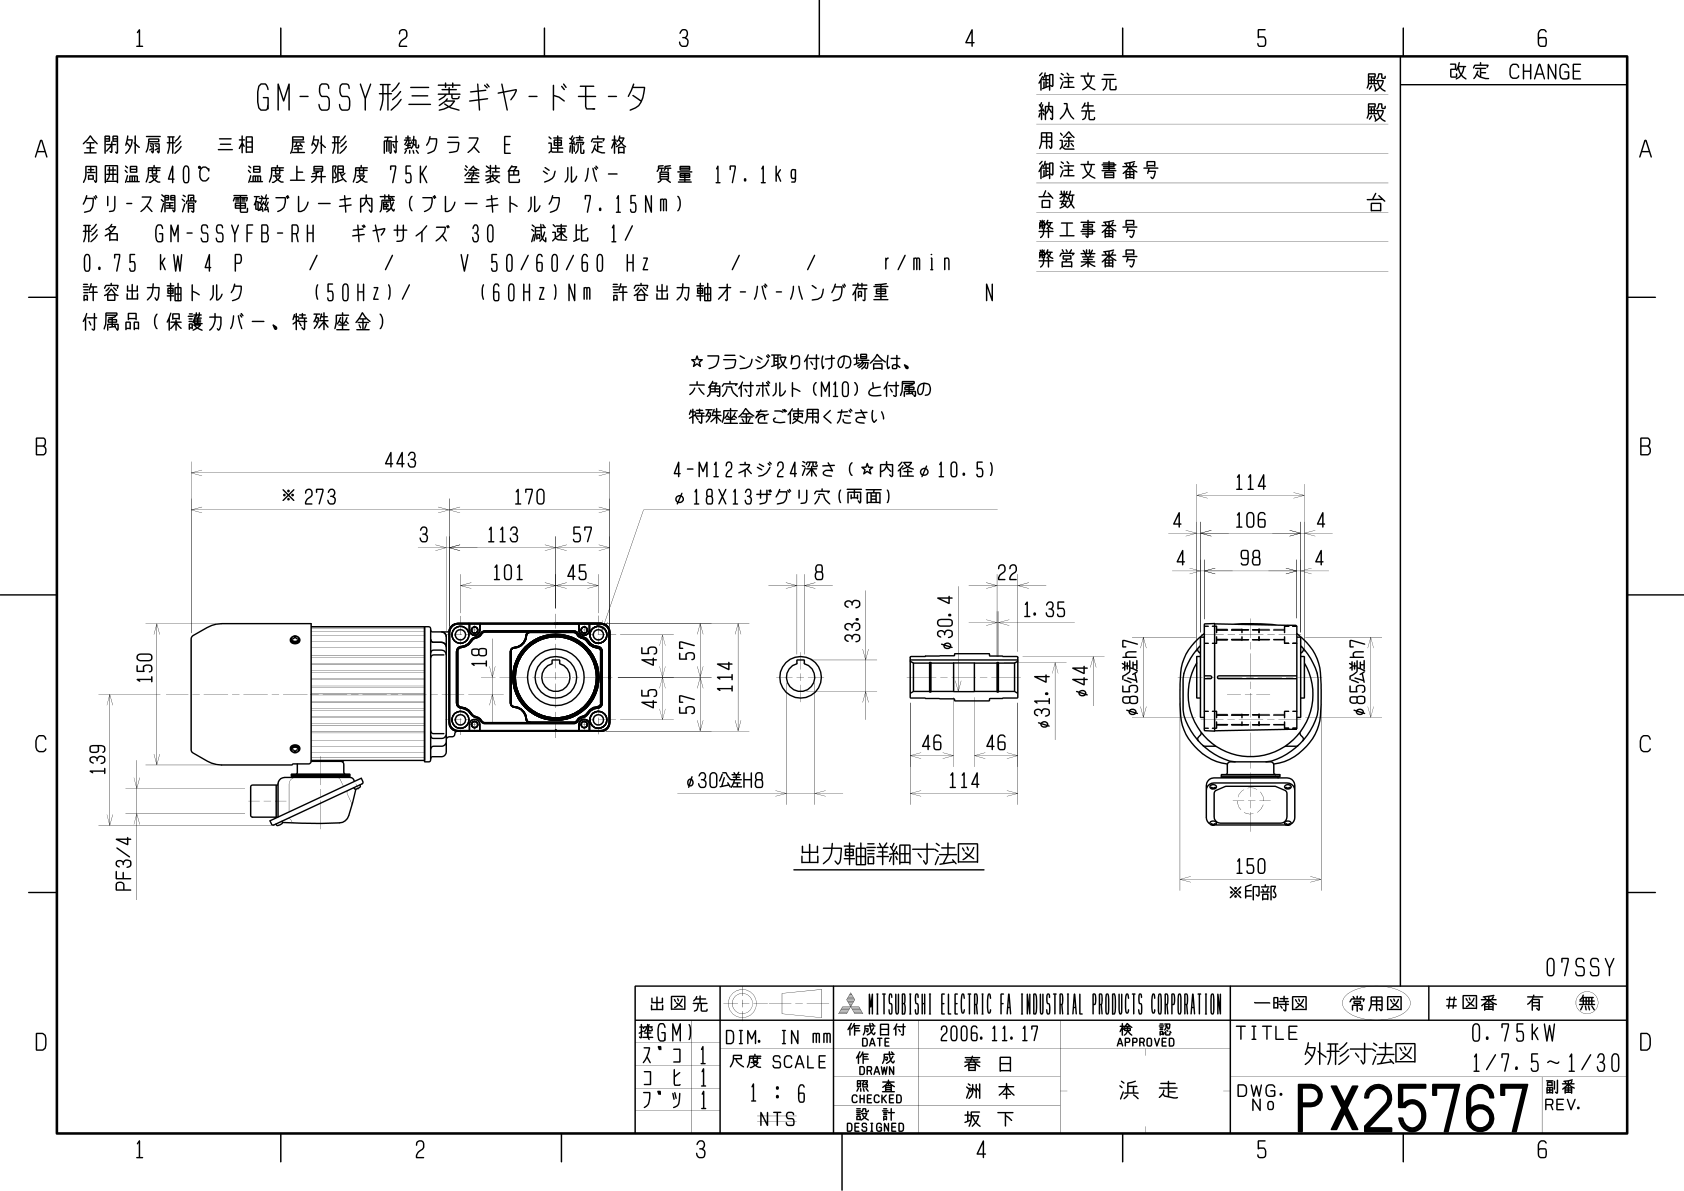GM_SSY_インバータ屋外_三相: (73, 343, 1375, 941)
